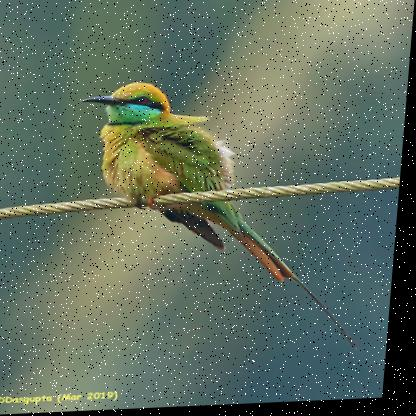Burung: (64, 74, 381, 363)
